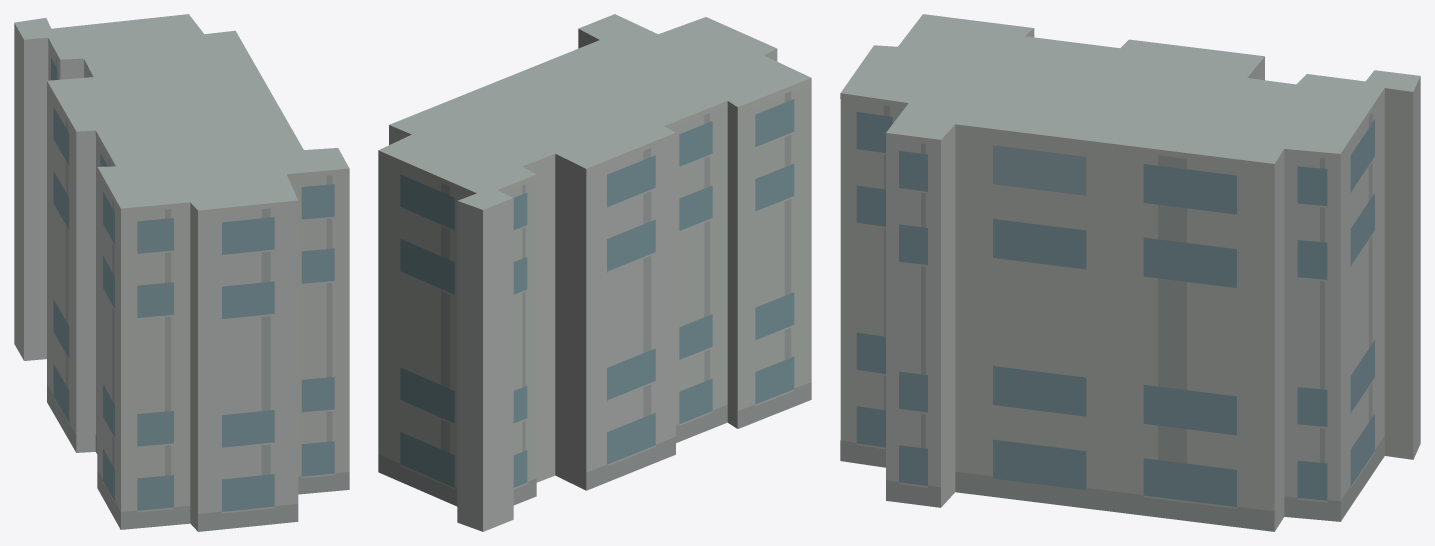
The model's file is survey-upis-32958010.glb.
3 views of the same model, side by side, from view 1: azimuth 30°, elevation 25°; view 2: azimuth 150°, elevation 25°; view 3: azimuth 270°, elevation 25° (orthographic). The views are drawn at different scales.
Visible parts, largest first — view 1: survey-upis-32958010.tmp; view 2: survey-upis-32958010.tmp; view 3: survey-upis-32958010.tmp.
Boxes of the visible parts, x1,y1,x2,y2 form: survey-upis-32958010.tmp: (14, 14, 349, 531); survey-upis-32958010.tmp: (378, 14, 811, 531); survey-upis-32958010.tmp: (840, 14, 1420, 531).
Size of the model in its own units: 13.38 by 15.3 by 21.87.
